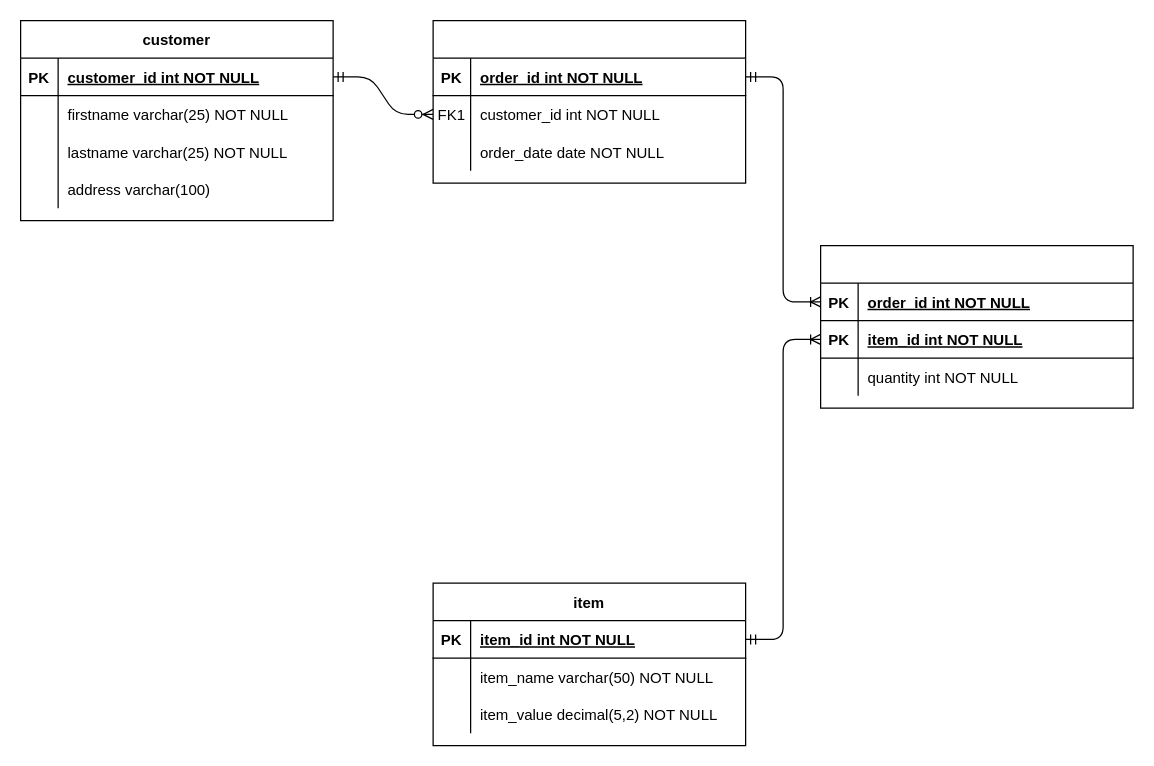
Some shapes in this 1154 by 766 pixel diagram are drawn without their labels. The box of each missing label's shape, as (x1, y1, x2, y2) in pixels:
order_item: (819, 244, 1133, 408)
orders: (432, 19, 746, 183)
